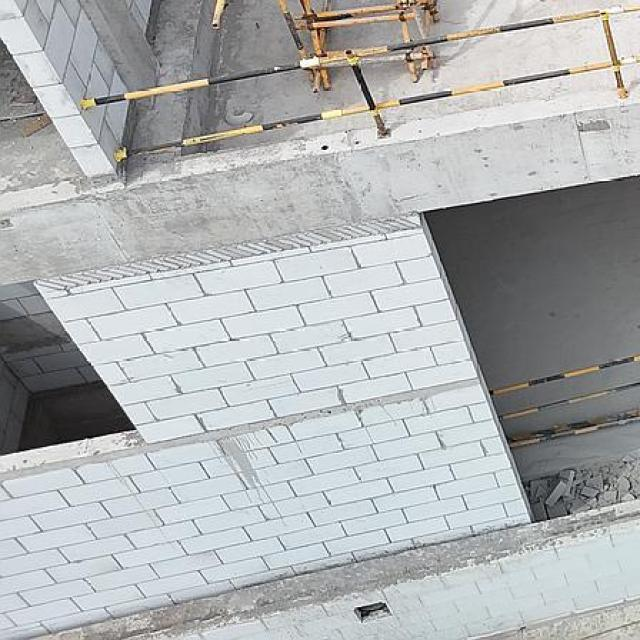edge_guardrail: (78, 0, 640, 160), (490, 354, 640, 444)
